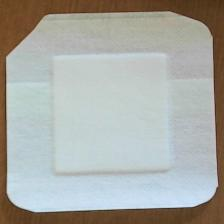Cut: (4, 9, 221, 217)
